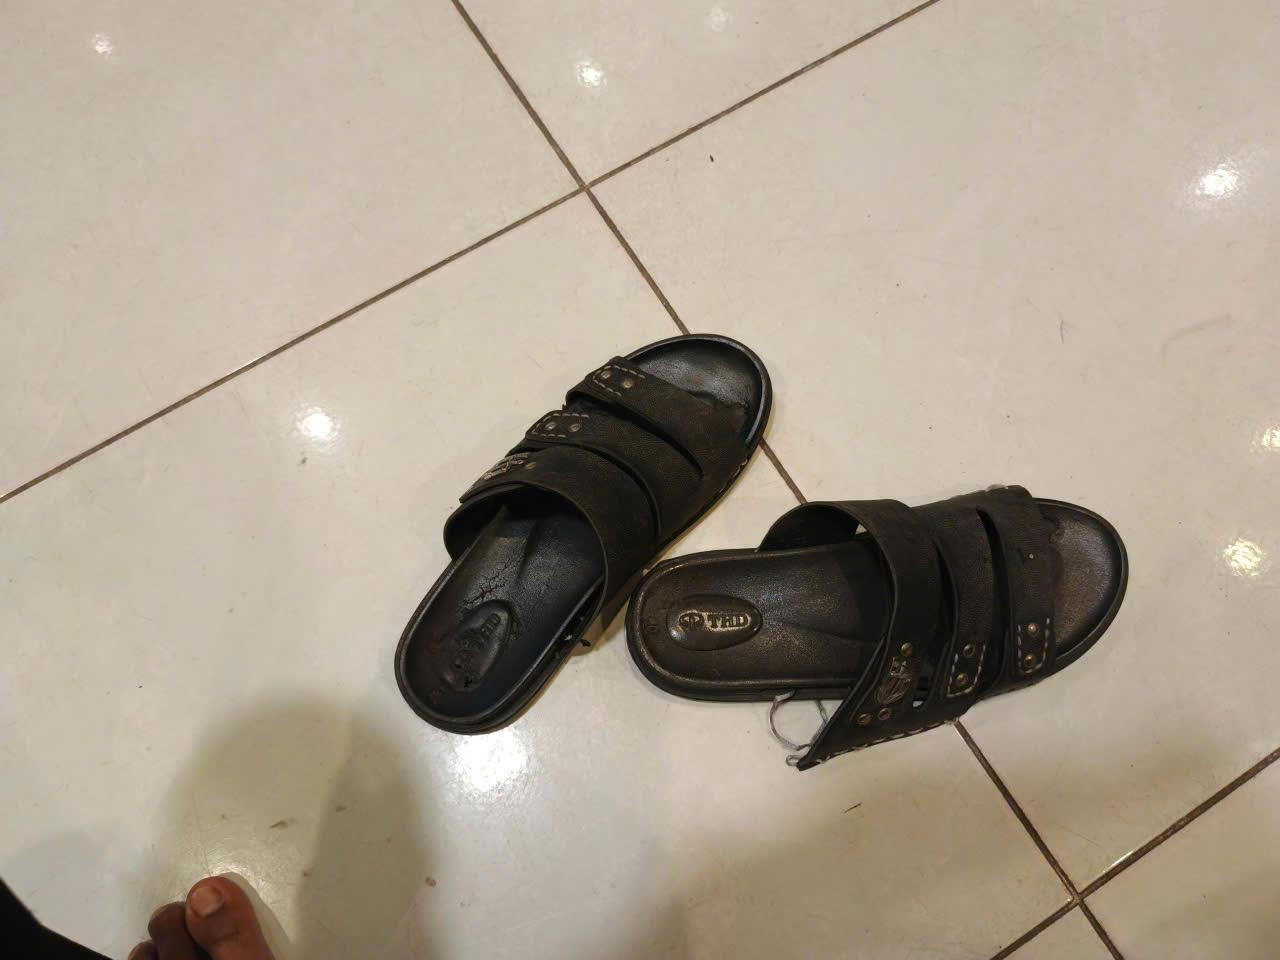Con lai: (388, 333, 770, 735), (628, 480, 1128, 770)
